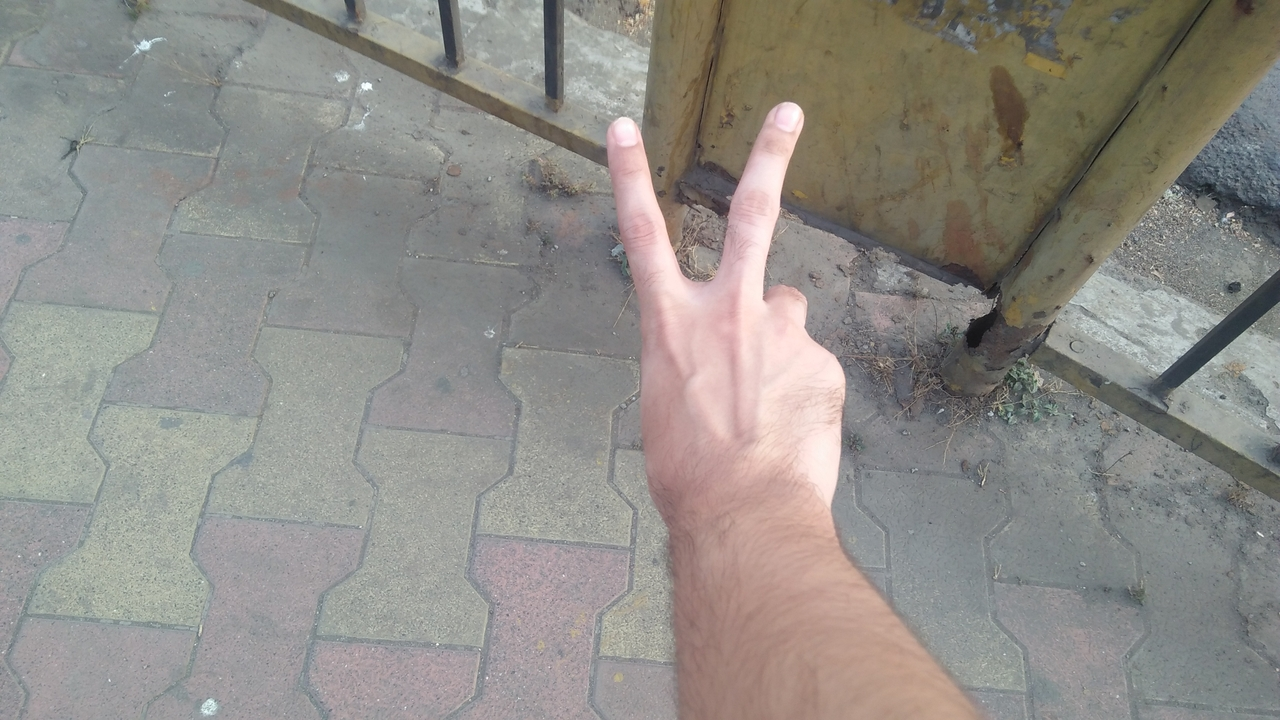fingertip: (756, 96, 812, 146), (598, 106, 648, 156)
